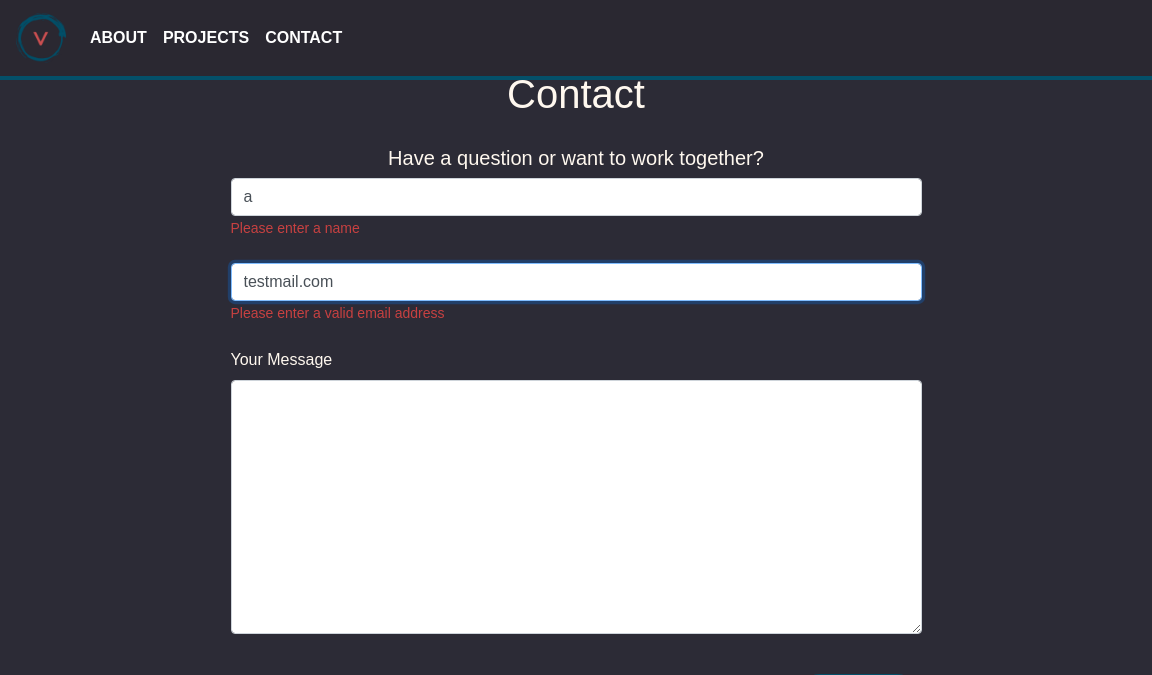
Contact Form › user must fill in a message
(page scrolled)
Type "Michael Scofield" into the field with id "inputName" at (577, 197), box x1=231 y1=178 x2=922 y2=216
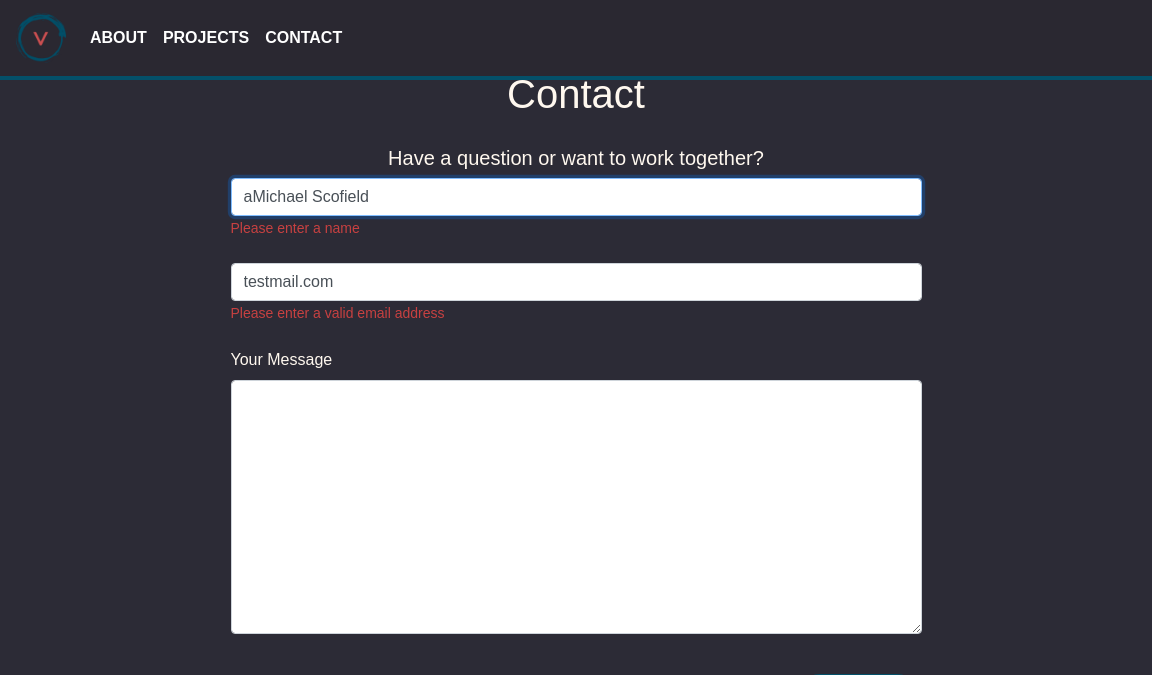
Type "test@testingcypress.com" into the field with id "inputEmail" at (577, 282), box x1=231 y1=263 x2=922 y2=301
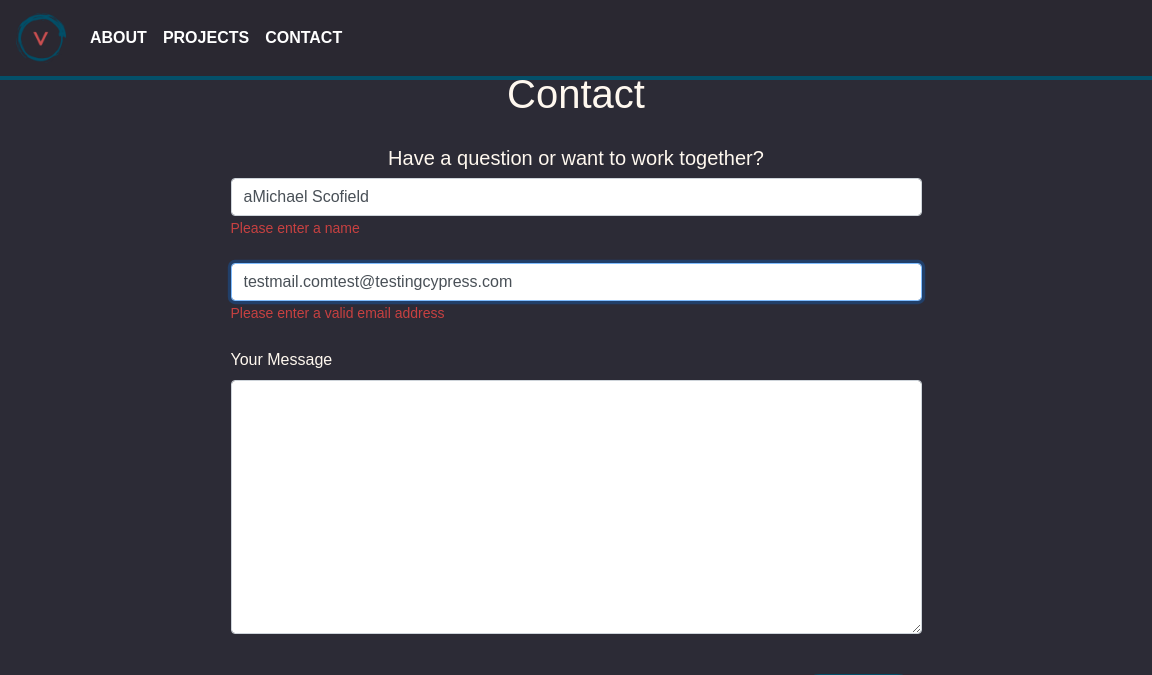
Scroll
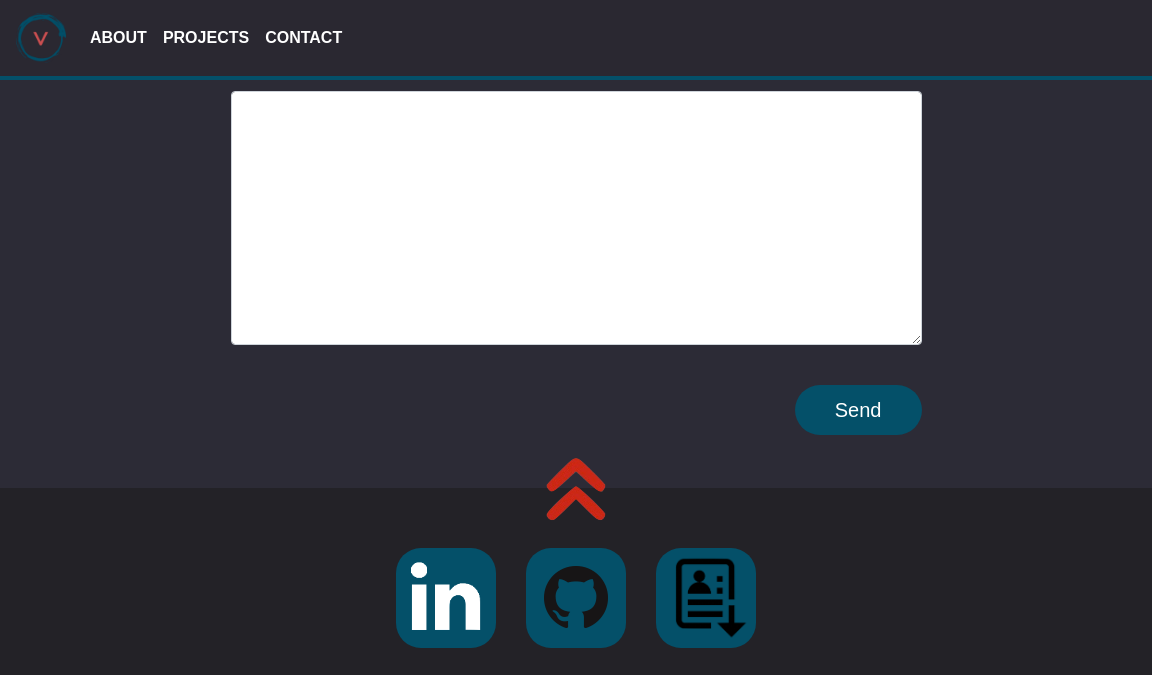
Click the button with id "send" at (859, 410), box x1=795 y1=385 x2=922 y2=435
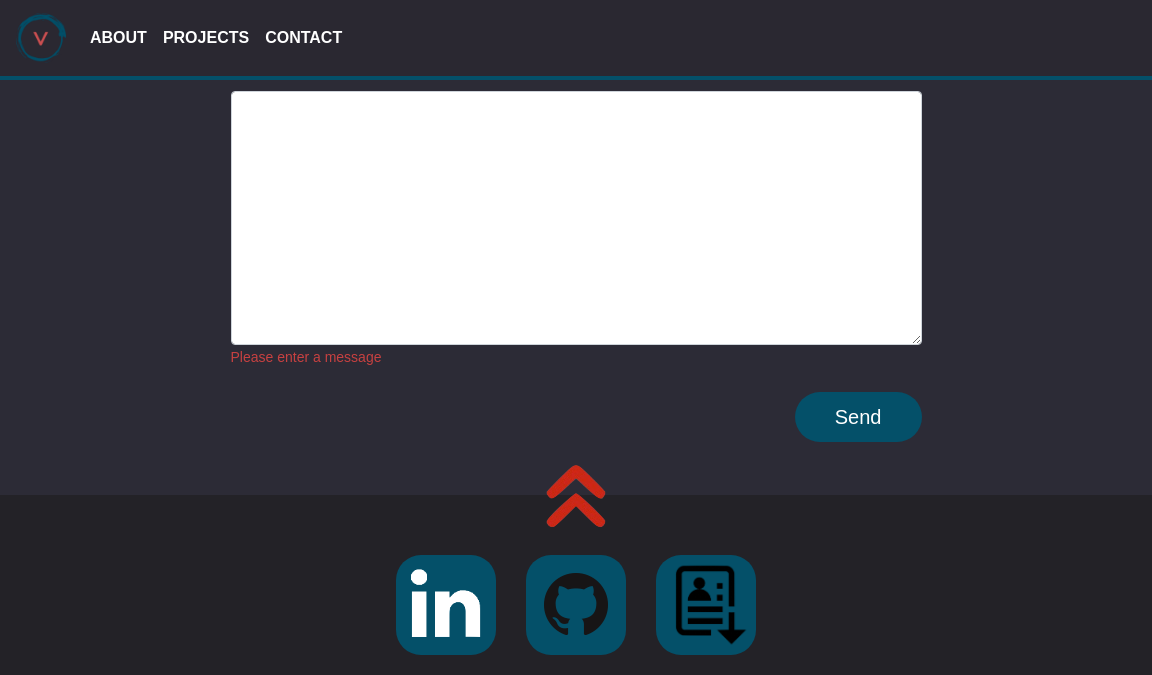
expect the text "Please enter a message" is shown: met, box x1=230 y1=347 x2=382 y2=368
